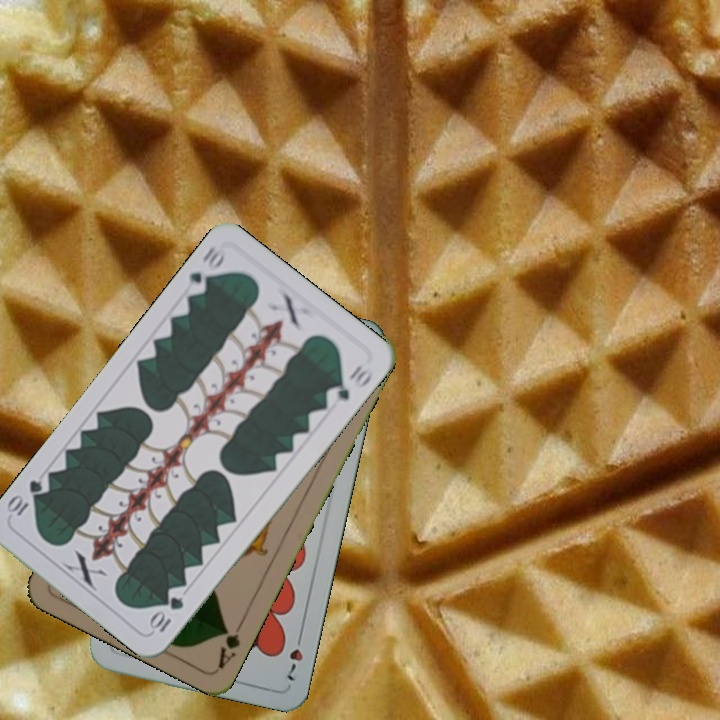G10: (181, 240, 230, 298), (146, 592, 187, 635)
GA: (213, 616, 247, 672)
H7: (283, 627, 306, 684)
